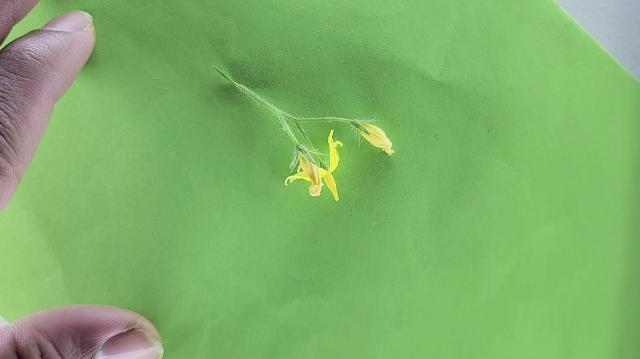Anthesis: (285, 129, 343, 202), (350, 119, 397, 158)
